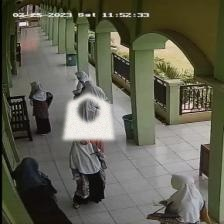Mukena: (62, 93, 115, 139)
